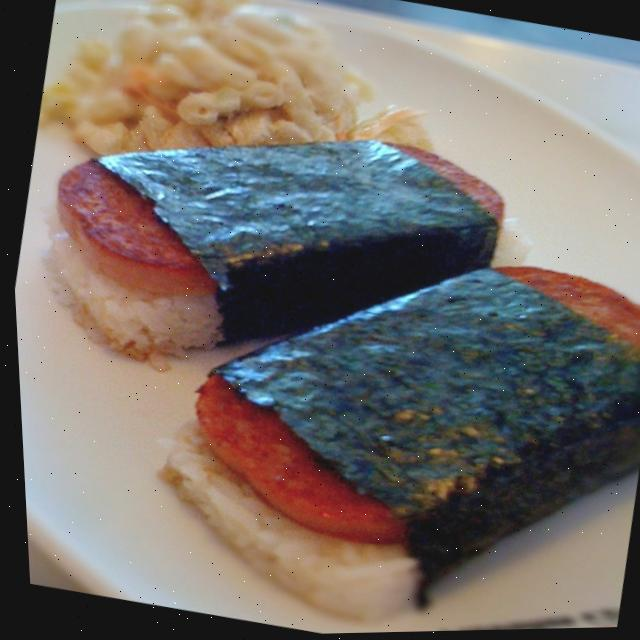寿司卷物: (3, 58, 640, 640)
